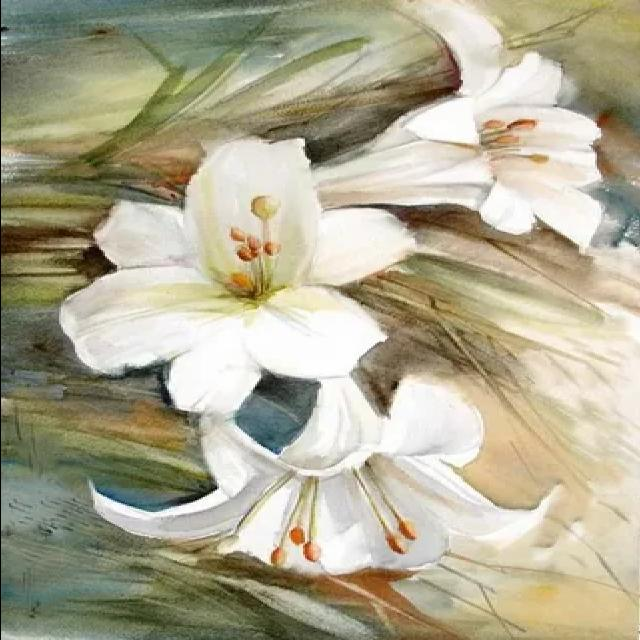lily: (42, 127, 424, 421)
